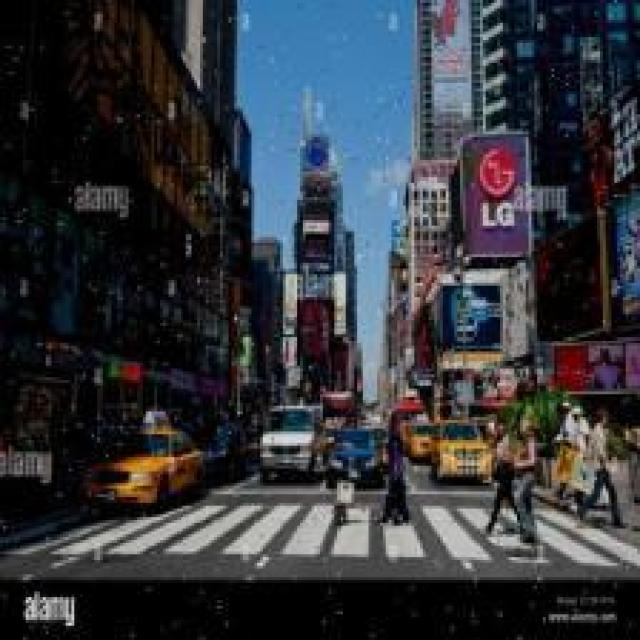walk-crossing: (46, 498, 640, 562)
